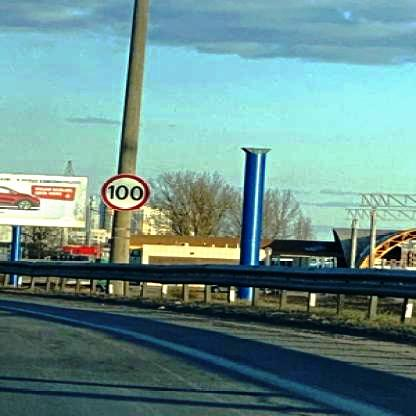Speed Limit -100-: (97, 172, 152, 216)
